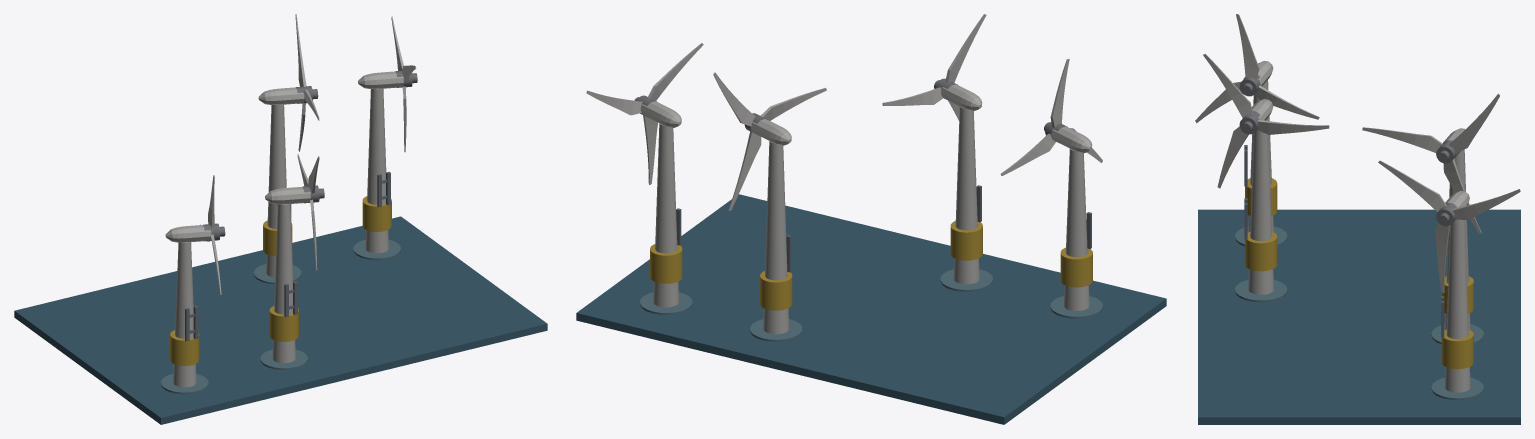
Rendered from offshore_wind_farm_lvl2.glb.
3 views of the same model, side by side, from view 1: azimuth 30°, elevation 25°; view 2: azimuth 150°, elevation 25°; view 3: azimuth 270°, elevation 25° (orthographic). The views are drawn at different scales.
Visible parts, largest first — view 1: offshore_wind_farm; view 2: offshore_wind_farm; view 3: offshore_wind_farm.
Boxes of the visible parts, <box> form: offshore_wind_farm: <box>14,14,547,424</box>; offshore_wind_farm: <box>576,14,1166,424</box>; offshore_wind_farm: <box>1195,14,1520,424</box>.
Size of the model in its own units: 1 by 0.6054 by 0.6631.
